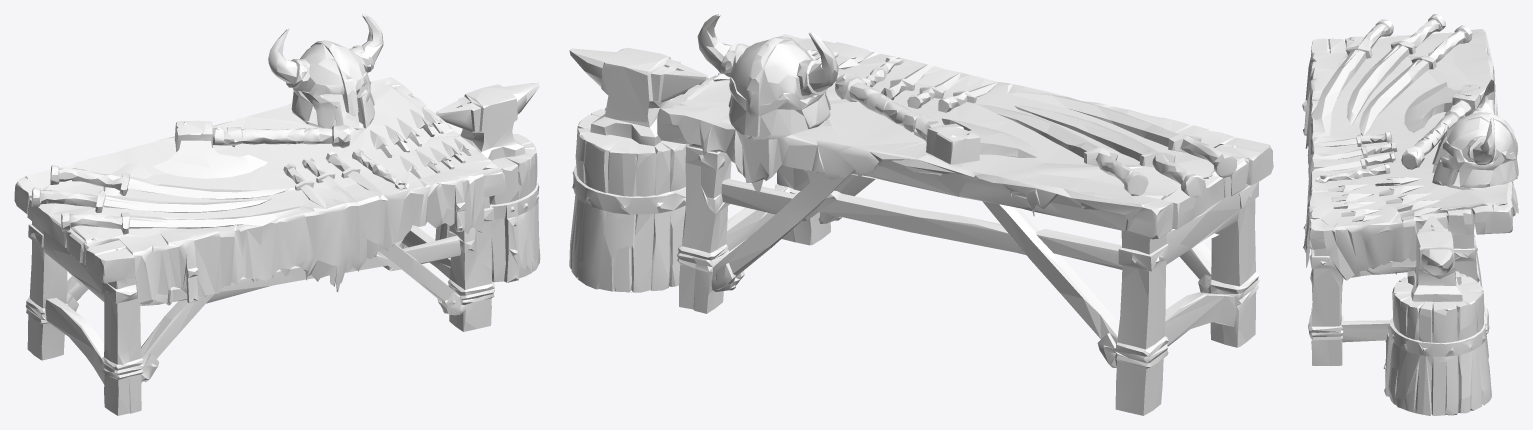
Rendered from weapon_table.glb.
3 views of the same model, side by side, from view 1: azimuth 30°, elevation 25°; view 2: azimuth 150°, elevation 25°; view 3: azimuth 270°, elevation 25° (orthographic). The views are drawn at different scales.
Parts seen in each view (by area): view 1: Mesh_0; view 2: Mesh_0; view 3: Mesh_0.
Boxes of the visible parts, bbox=[...] form: Mesh_0: bbox=[14, 14, 540, 415]; Mesh_0: bbox=[569, 14, 1273, 415]; Mesh_0: bbox=[1302, 14, 1518, 415].
Size of the model in its own units: 2.4 by 1.13 by 0.9345.
Materials: 1 (1 with a texture image).
